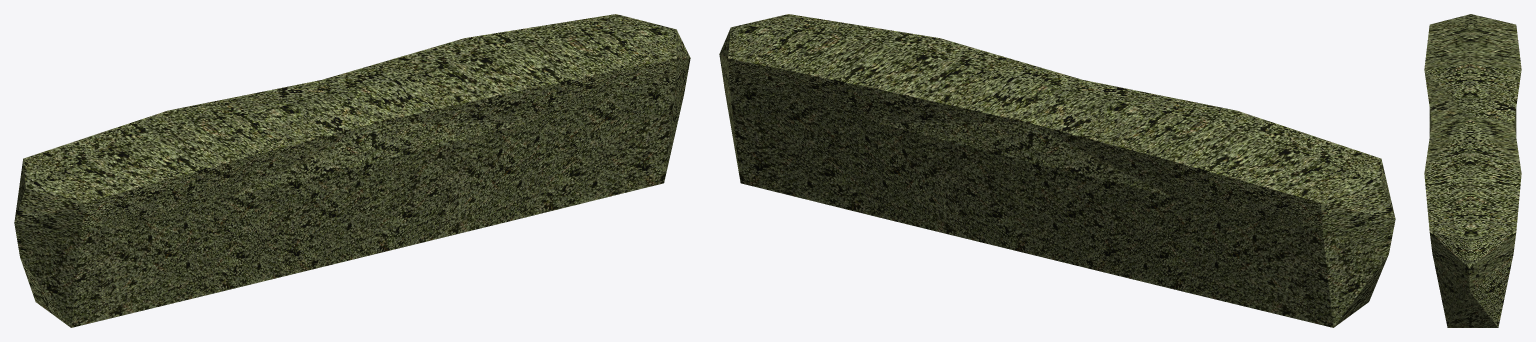
File: Hedge01_Low.dae
3 renders of one model, left to right at view 1: azimuth 30°, elevation 25°; view 2: azimuth 150°, elevation 25°; view 3: azimuth 270°, elevation 25°, orthographic. The views are drawn at different scales.
Parts seen in each view (by area): view 1: Hedge1_Young2; view 2: Hedge1_Young2; view 3: Hedge1_Young2.
Part boxes in pixels (x1,y1,x2,y2): Hedge1_Young2: (14, 14, 690, 327); Hedge1_Young2: (719, 14, 1395, 327); Hedge1_Young2: (1424, 14, 1521, 327).
Bounding box in the file's own units: 4.56 × 0.9748 × 0.7931.
1 material, 1 textured.
